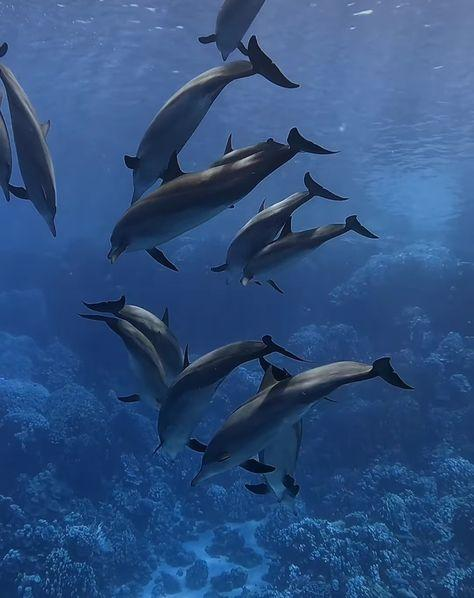fish: (106, 126, 341, 272), (186, 355, 415, 491), (123, 33, 300, 206), (151, 334, 313, 467), (207, 170, 349, 281), (240, 214, 379, 293), (0, 58, 57, 238), (80, 293, 196, 377), (76, 312, 165, 415), (245, 364, 302, 508), (197, 0, 265, 64)
